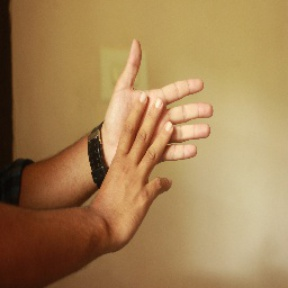M: (90, 35, 217, 215)
